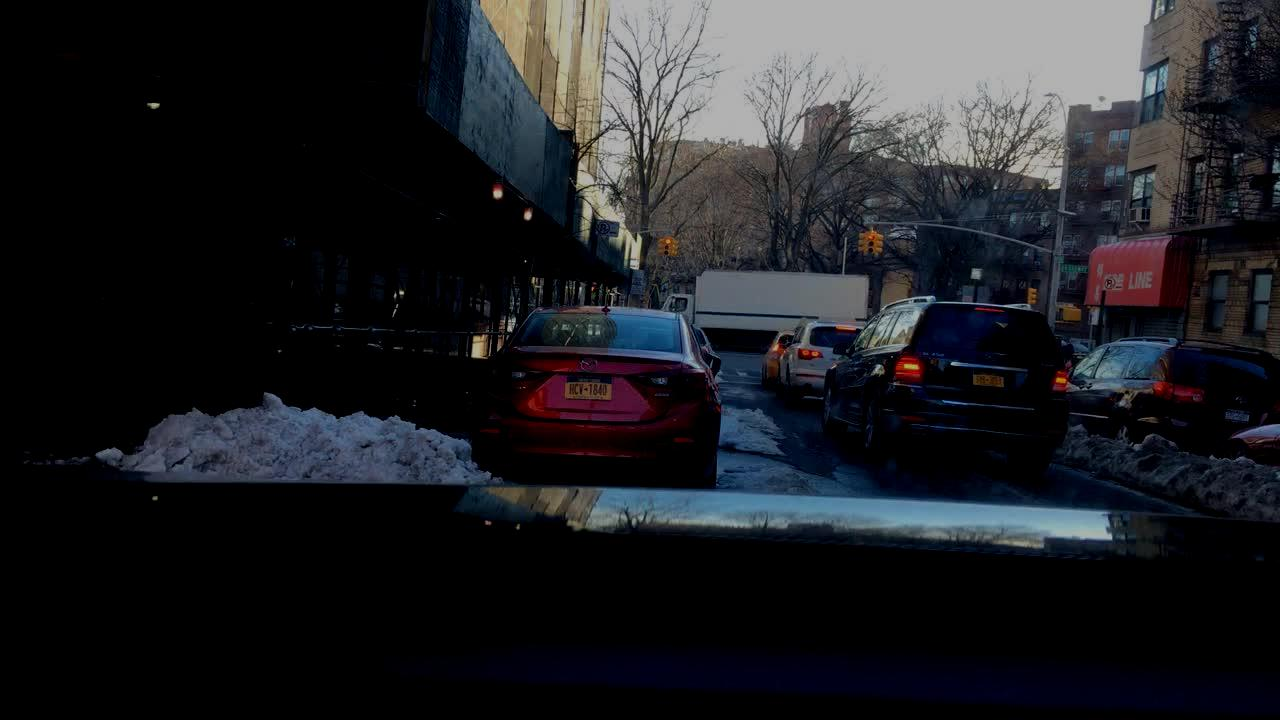Mazda: (573, 349, 613, 382)
Toyota: (1230, 392, 1254, 409)
